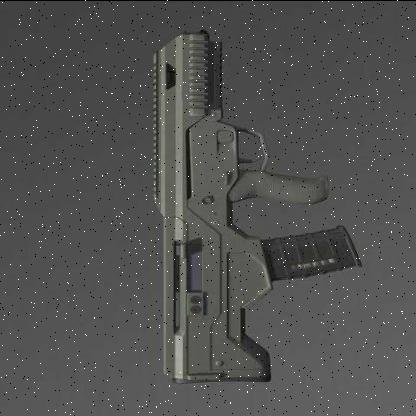rifle: (103, 28, 385, 405)
